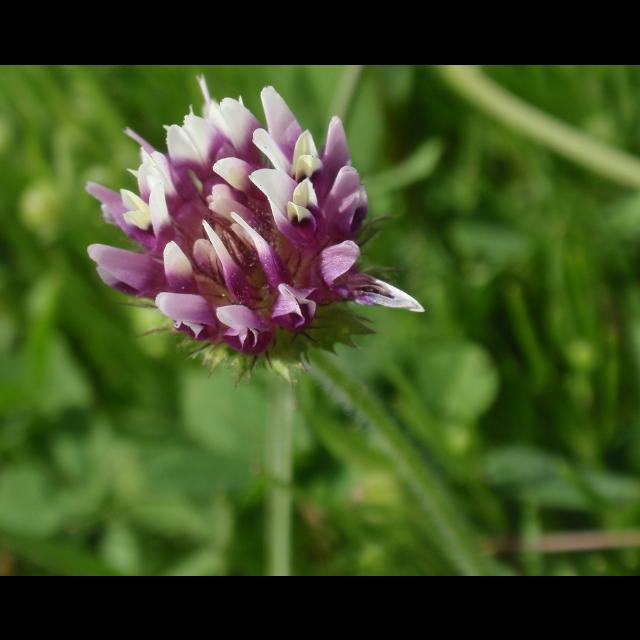Flower: (106, 72, 426, 362)
